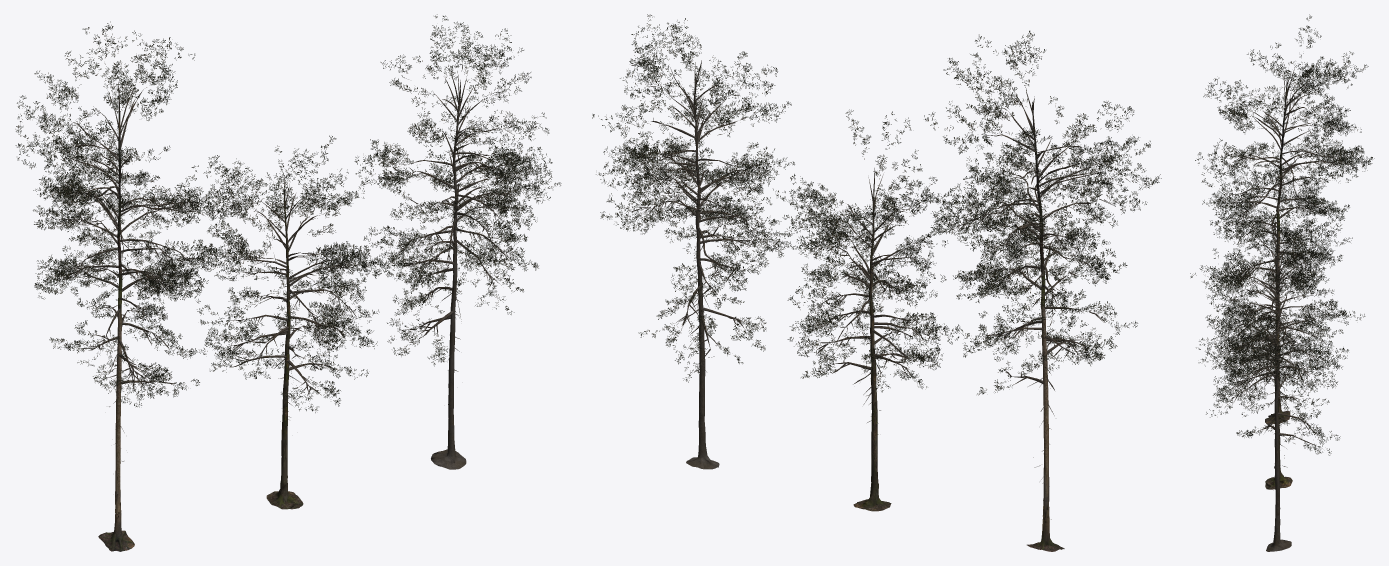
Rendered from pine_hero.glb.
3 views of the same model, side by side, from view 1: azimuth 30°, elevation 25°; view 2: azimuth 150°, elevation 25°; view 3: azimuth 270°, elevation 25° (orthographic). The views are drawn at different scales.
Parts seen in each view (by area): view 1: pine_tree_01_a_LOD0, pine_tree_01_c_LOD0, pine_tree_01_b_LOD0; view 2: pine_tree_01_a_LOD0, pine_tree_01_c_LOD0, pine_tree_01_b_LOD0; view 3: pine_tree_01_a_LOD0, pine_tree_01_c_LOD0, pine_tree_01_b_LOD0.
Part boxes in pixels (left/top/right/bottom): pine_tree_01_a_LOD0: left=15, top=14, right=561, bottom=551; pine_tree_01_c_LOD0: left=431, top=85, right=466, bottom=469; pine_tree_01_b_LOD0: left=266, top=196, right=303, bottom=509; pine_tree_01_a_LOD0: left=592, top=14, right=1161, bottom=551; pine_tree_01_c_LOD0: left=686, top=73, right=719, bottom=469; pine_tree_01_b_LOD0: left=853, top=187, right=891, bottom=511; pine_tree_01_a_LOD0: left=1190, top=14, right=1374, bottom=478; pine_tree_01_c_LOD0: left=1266, top=253, right=1291, bottom=551; pine_tree_01_b_LOD0: left=1265, top=239, right=1292, bottom=489.
Size of the model in its own units: 21.74 by 20.32 by 8.47.
6 materials, 6 textured.
